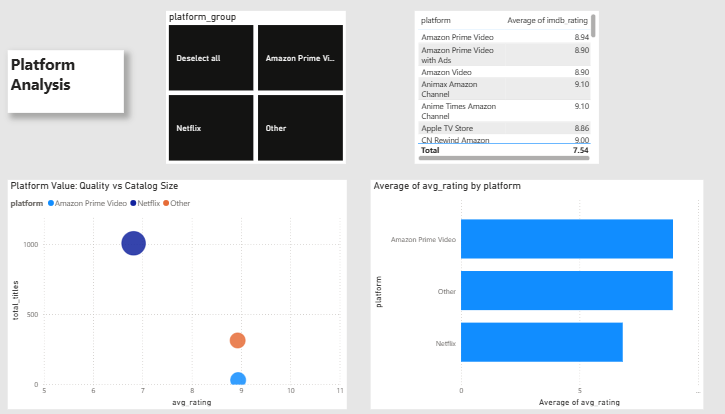

What the dashboard file says about the page in this screenshot:
{"tool":"powerbi","page":{"name":"Page 3","canvas":[1280,720],"ordinal":2},"visuals":[{"type":"scatterChart","title":"Platform Value: Quality vs Catalog Size","fields":{"Y":["vw_platform_kpis.total_titles"],"X":["vw_platform_kpis.avg_rating"],"Series":["vw_platform_kpis.platform"],"Size":["Avg(vw_platform_kpis.avg_weighted_score)"]},"box":[17.9,310.4,581.3,392.9],"z":0},{"type":"clusteredBarChart","fields":{"Category":["vw_platform_kpis.platform"],"Y":["Avg(vw_platform_kpis.avg_rating)"]},"box":[640.5,310.4,570.6,392.9],"z":1000},{"type":"advancedSlicerVisual","fields":{"Values":["platforms.platform_group"]},"box":[290.7,19.7,308.6,262],"z":2000},{"type":"textbox","box":[17.9,87.9,199.2,107.7],"z":3000},{"type":"tableEx","fields":{"Values":["platforms.platform","Avg(platforms.imdb_rating)"]},"box":[715.9,19.7,315.8,262],"z":4001}]}

Visuals, with their boxes in screenshot pixels (x1, y1, x2, y2), scaled from the page's 1280x720 canvas onto the 725x414 screenshot:
"Platform Value: Quality vs Catalog Size" scatterChart: bbox(10, 178, 339, 404)
clusteredBarChart - vw_platform_kpis.platform x Avg(vw_platform_kpis.avg_rating): bbox(363, 178, 686, 404)
advancedSlicerVisual - platforms.platform_group: bbox(165, 11, 339, 162)
textbox: bbox(10, 51, 123, 112)
tableEx - platforms.platform x Avg(platforms.imdb_rating): bbox(405, 11, 584, 162)
